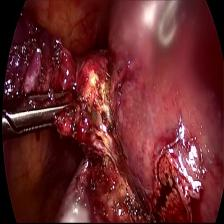Grasper: (9, 75, 84, 149)
